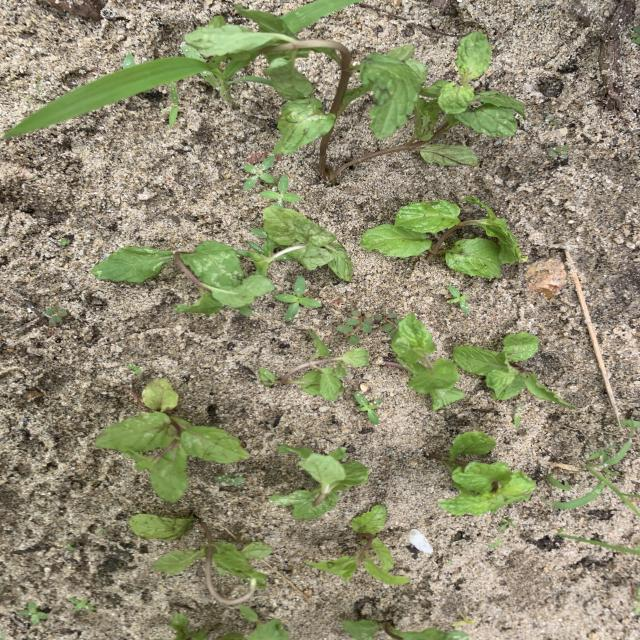crop: (189, 8, 525, 184), (95, 379, 247, 500), (93, 241, 274, 314), (361, 199, 523, 278), (130, 515, 271, 604), (453, 333, 573, 407), (431, 431, 535, 515), (246, 205, 351, 280), (307, 506, 407, 583), (259, 330, 367, 399), (271, 446, 367, 519), (392, 313, 463, 409), (343, 620, 467, 639), (220, 610, 289, 639), (171, 614, 206, 639)
weed: (3, 56, 245, 137), (552, 440, 639, 515), (280, 0, 360, 31), (275, 277, 320, 319), (338, 311, 379, 343), (260, 175, 299, 206), (243, 155, 275, 188), (355, 393, 381, 423), (20, 602, 47, 623), (448, 286, 469, 311), (169, 83, 178, 127), (44, 306, 67, 323), (70, 597, 95, 611), (375, 312, 395, 326), (453, 614, 475, 626), (214, 475, 243, 484), (549, 145, 569, 158), (621, 419, 639, 430), (499, 519, 514, 531), (128, 364, 141, 374), (632, 26, 639, 43), (488, 539, 501, 547), (60, 238, 70, 244), (0, 630, 6, 639)
